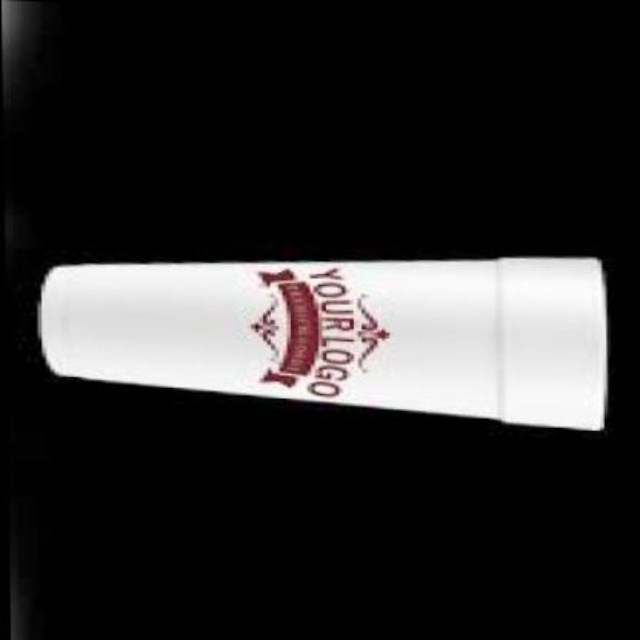trash: (40, 258, 605, 429)
